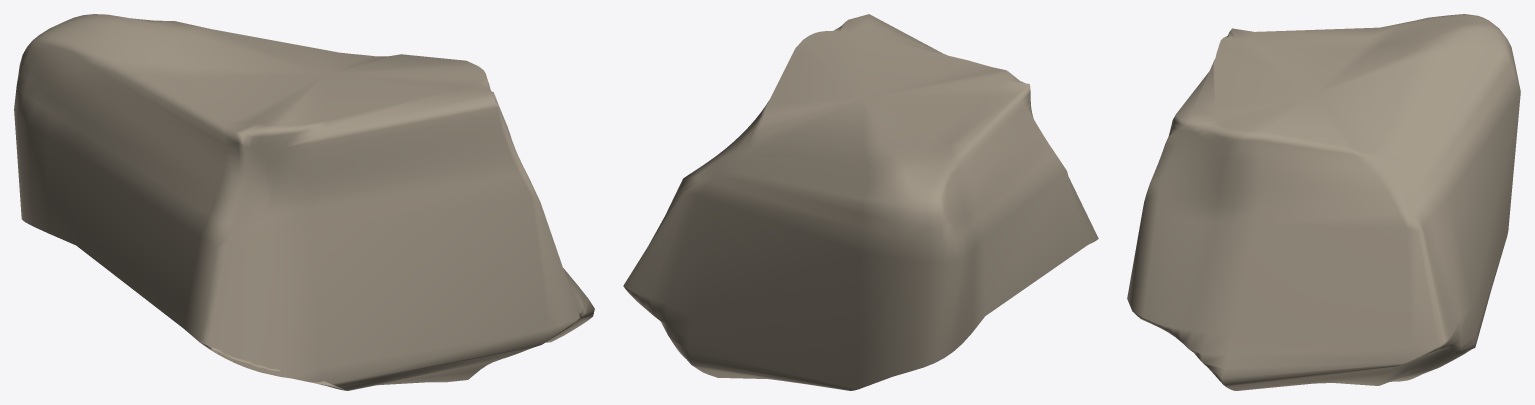
File: landscape.rock.gritstone_07.glb
The picture shows the model from 3 angles, left to right: view 1: azimuth 30°, elevation 25°; view 2: azimuth 150°, elevation 25°; view 3: azimuth 270°, elevation 25°; orthographic projection. The views are drawn at different scales.
Parts seen in each view (by area): view 1: main__stone_a98; view 2: main__stone_a98; view 3: main__stone_a98.
Part boxes in pixels (x1,y1,x2,y2): main__stone_a98: [14, 14, 594, 390]; main__stone_a98: [623, 14, 1098, 390]; main__stone_a98: [1127, 14, 1520, 390].
Size of the model in its own units: 1.02 by 0.7176 by 1.01.
